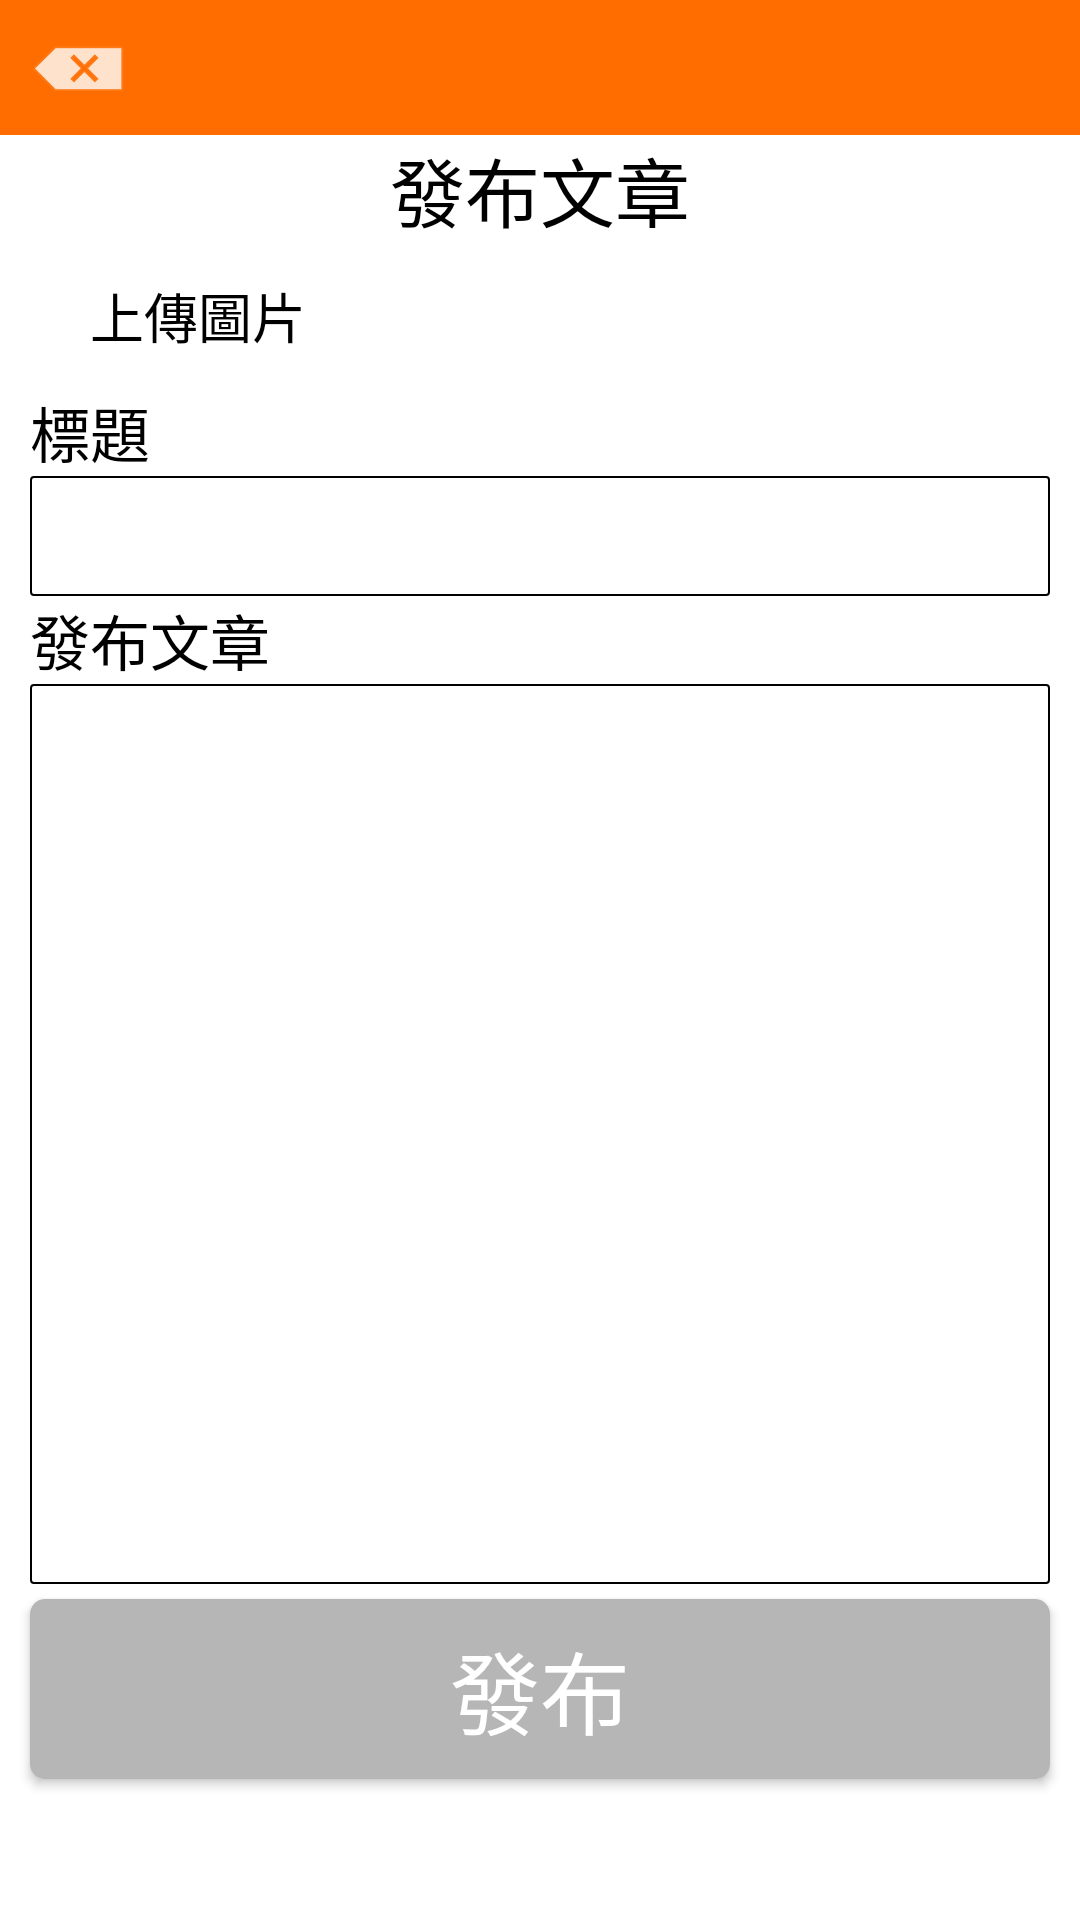

Icons on this 1080*1920 Android screen, each with its box as bbox=[x1, y1, x2, y2]:
delete: bbox=[35, 48, 122, 90]
